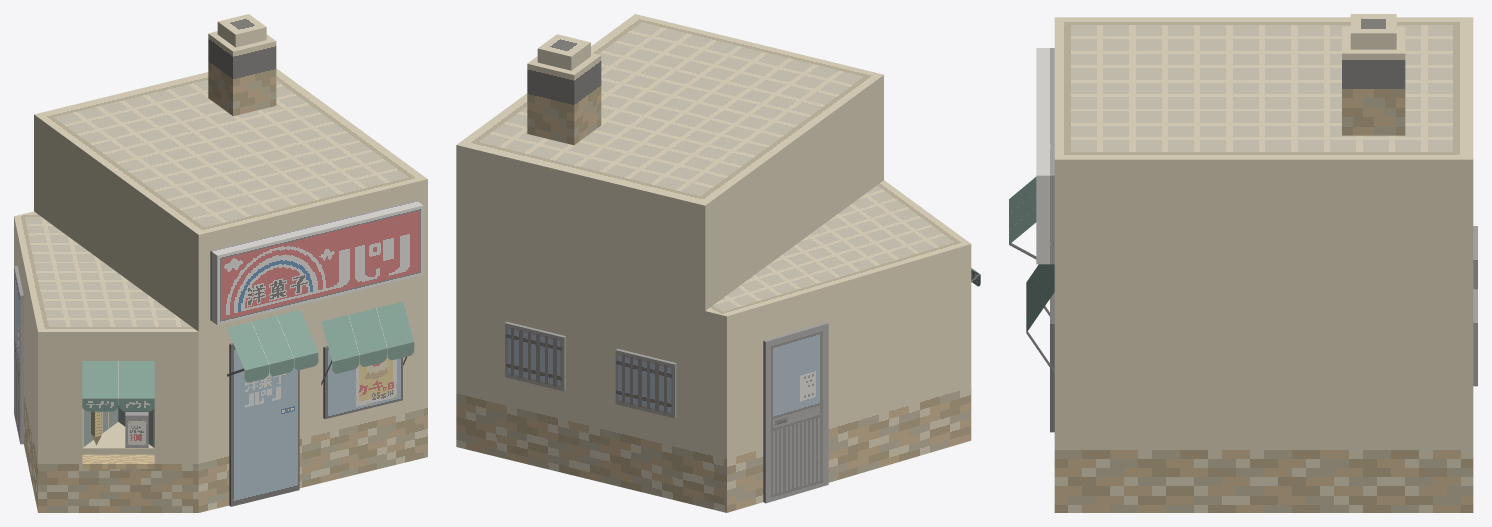
The model's file is 0103_Cake_Shop.glb.
The picture shows the model from 3 angles, left to right: view 1: azimuth 30°, elevation 25°; view 2: azimuth 150°, elevation 25°; view 3: azimuth 270°, elevation 25°; orthographic projection. The views are drawn at different scales.
Parts seen in each view (by area): view 1: part_0; view 2: part_0; view 3: part_0.
Boxes of the visible parts, x1,y1,x2,y2 form: part_0: (14,14,427,512); part_0: (456,14,980,512); part_0: (1009,14,1477,512).
Bounding box in the file's own units: 5.66 × 5.5 × 5.17.
Materials: 1 (1 with a texture image).
